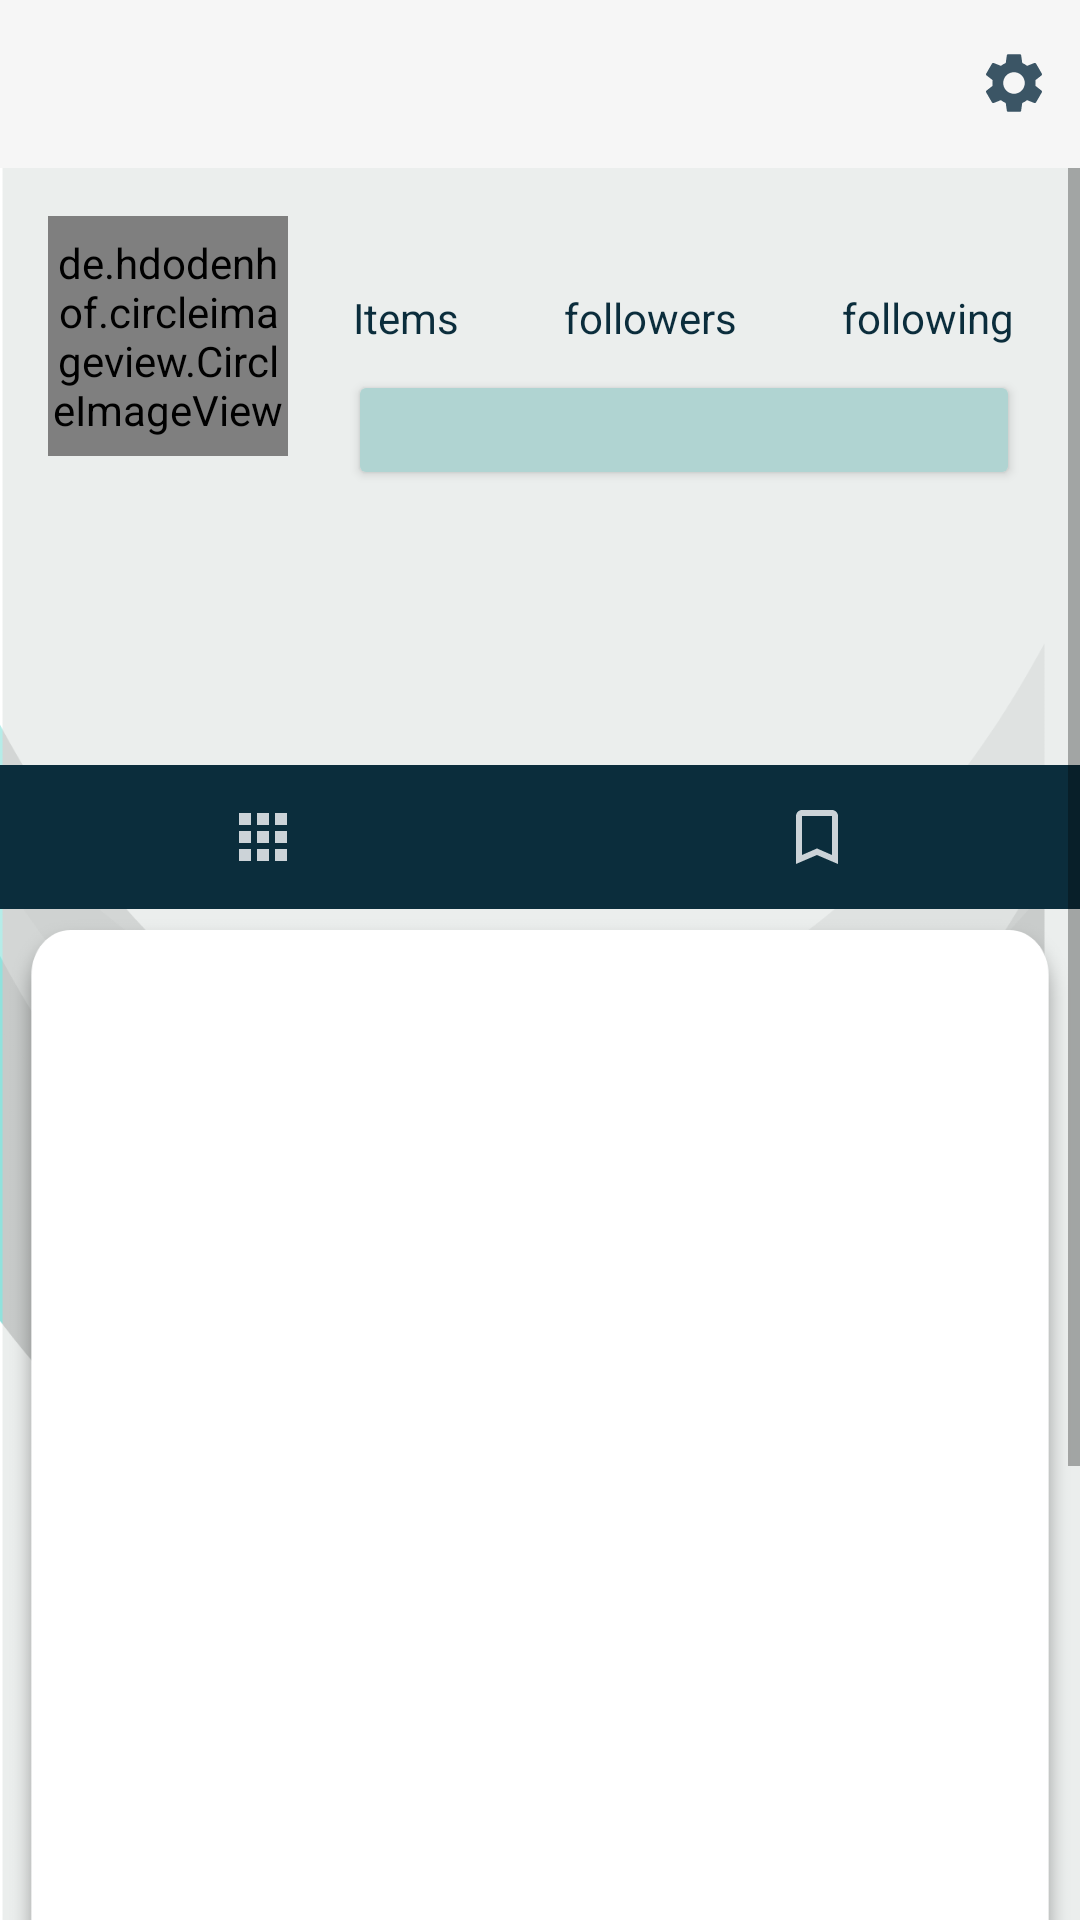

Named icons in this screenshot (1080px×1920px) and their centers, [x,y]:
options: [1014,83]
